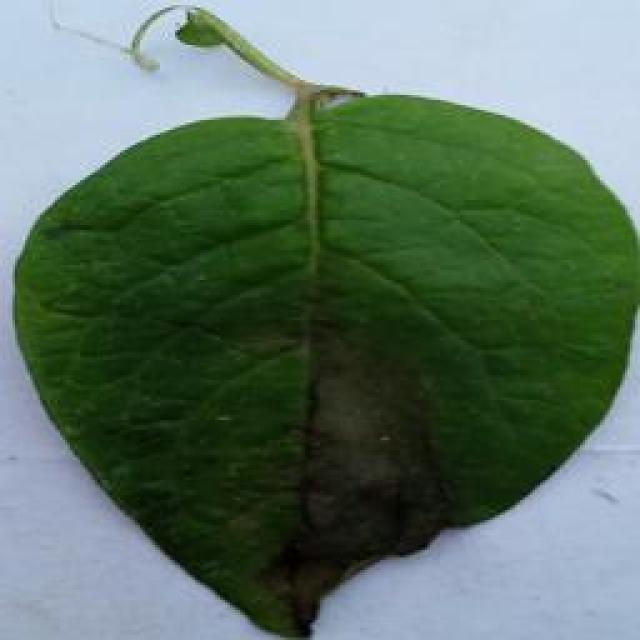Potato_Late_Blight: (15, 8, 630, 637)
